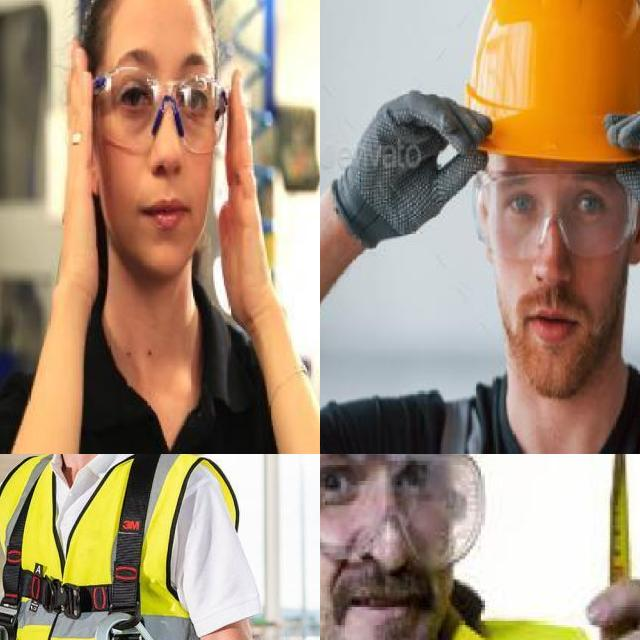Harness: (0, 454, 165, 640)
face_mask: (467, 164, 640, 258)
face_nomask: (320, 454, 466, 631), (103, 57, 211, 248), (496, 185, 616, 356)
glasses: (320, 454, 489, 573), (91, 63, 232, 160)
hand_glove: (322, 89, 494, 252), (599, 89, 640, 274)
hand_noglove: (207, 60, 288, 343), (39, 37, 106, 300)
head_helmet: (326, 0, 640, 454), (458, 0, 640, 166)
head_nohelmet: (89, 0, 216, 24)
person: (16, 0, 317, 454), (320, 454, 640, 640)
